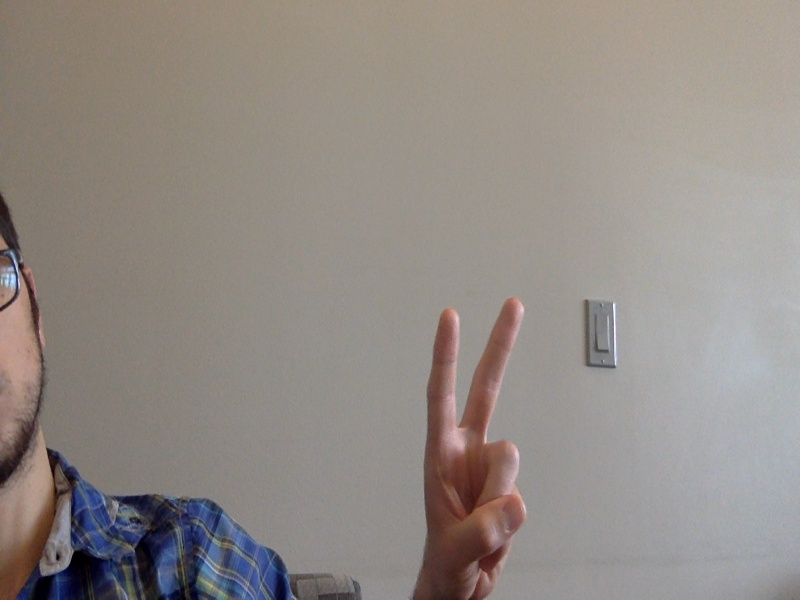2-hand: (424, 299, 530, 596)
